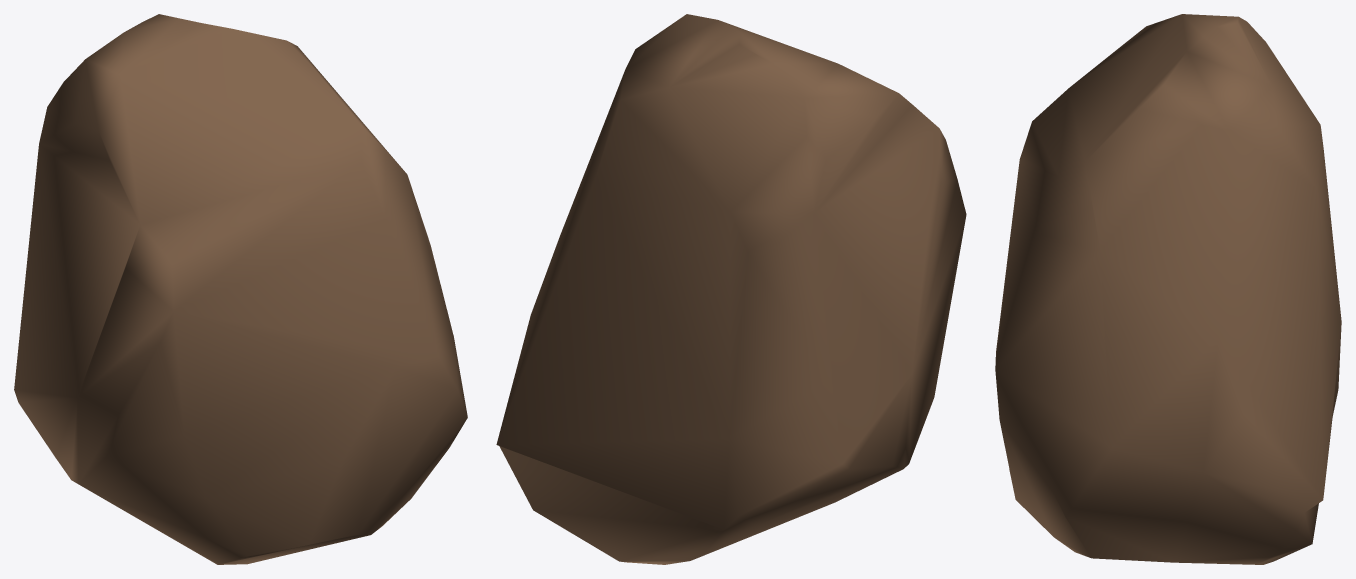
File: SM_rock03_low.fbx
3 views of the same model, side by side, from view 1: azimuth 30°, elevation 25°; view 2: azimuth 150°, elevation 25°; view 3: azimuth 270°, elevation 25° (orthographic). The views are drawn at different scales.
Parts seen in each view (by area): view 1: polySurface532; view 2: polySurface532; view 3: polySurface532.
Part boxes in pixels (x1,y1,x2,y2): polySurface532: (14, 14, 467, 564); polySurface532: (496, 14, 966, 564); polySurface532: (995, 14, 1341, 564).
Bounding box in the file's own units: 98.39 × 138 × 86.43.
